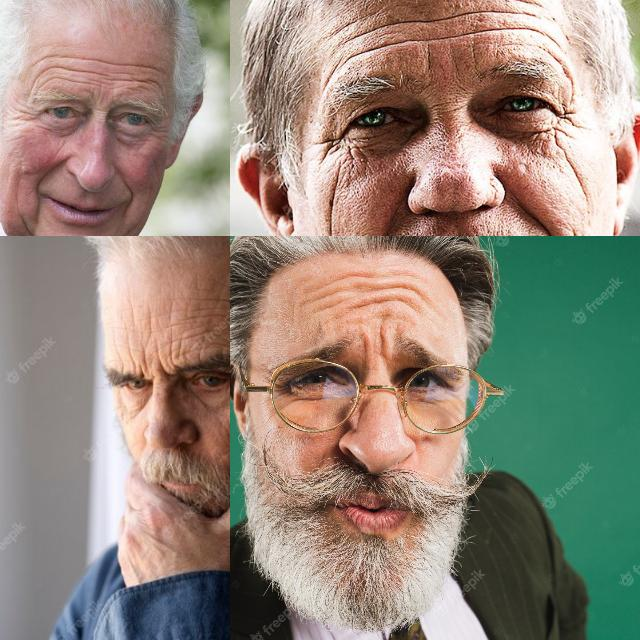chin: (17, 217, 42, 236)
crows_feet: (552, 97, 582, 147), (315, 120, 347, 163), (15, 104, 37, 126), (152, 124, 166, 140)
forehead: (482, 0, 552, 49), (398, 6, 470, 46), (337, 12, 387, 62), (34, 52, 96, 84), (110, 62, 163, 96), (382, 268, 418, 310), (347, 266, 377, 310), (306, 280, 340, 316), (182, 304, 225, 324), (166, 330, 184, 360), (140, 306, 158, 336), (125, 339, 137, 369), (216, 333, 230, 353)
frown_line: (376, 330, 392, 360), (358, 332, 372, 360), (90, 104, 108, 122), (154, 354, 168, 376), (138, 352, 150, 376)
gummy_smile: (508, 194, 560, 236), (38, 150, 64, 188), (119, 167, 138, 207), (366, 219, 398, 236)
masseter: (322, 178, 345, 236)
